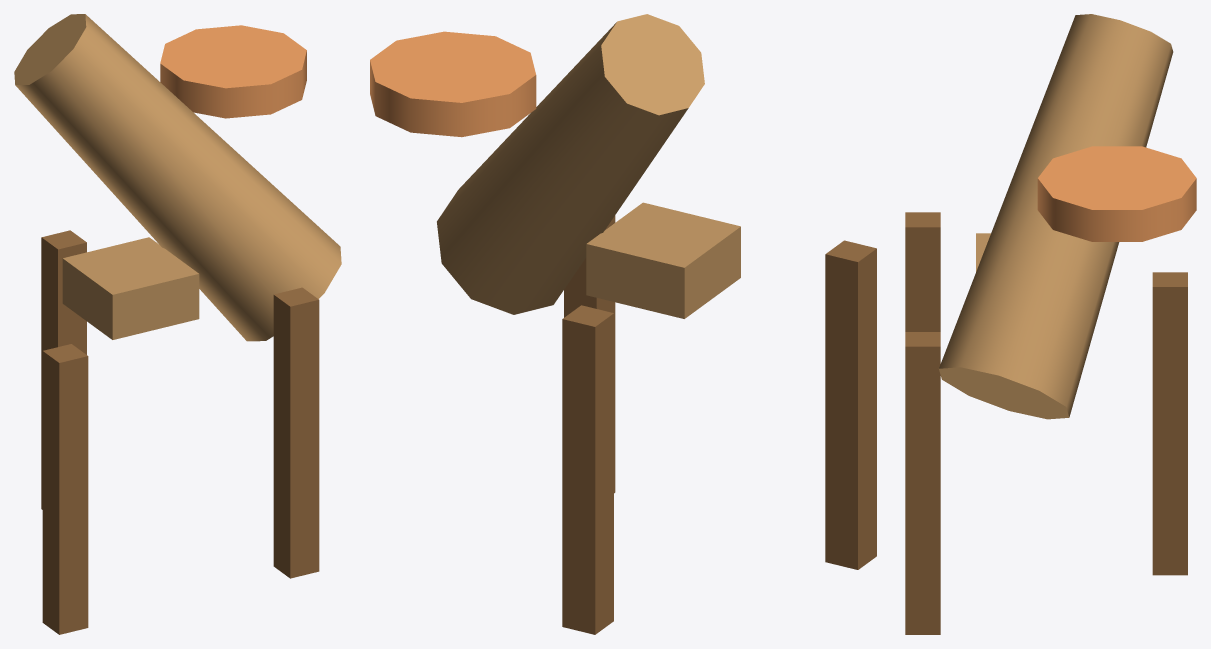
The model's file is telescope.glb.
The picture shows the model from 3 angles, left to right: view 1: azimuth 30°, elevation 25°; view 2: azimuth 150°, elevation 25°; view 3: azimuth 270°, elevation 25°; orthographic projection. The views are drawn at different scales.
Visible parts, largest first — view 1: telescope; view 2: telescope; view 3: telescope.
Boxes of the visible parts, x1=… form: telescope: x1=14, y1=14, x2=341, y2=634; telescope: x1=370, y1=14, x2=876, y2=634; telescope: x1=905, y1=14, x2=1196, y2=634.
Bounding box in the file's own units: 23.28 × 34.13 × 16.5.
